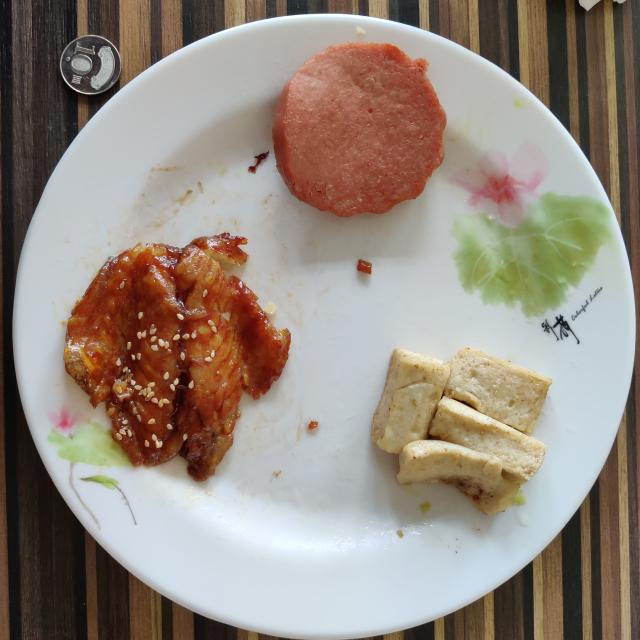Kabayaki sea bream fillet: (64, 232, 290, 481)
Spam: (272, 42, 446, 218)
coin: (60, 35, 121, 95)
creamy tofu -without sauce-: (371, 348, 552, 515)
